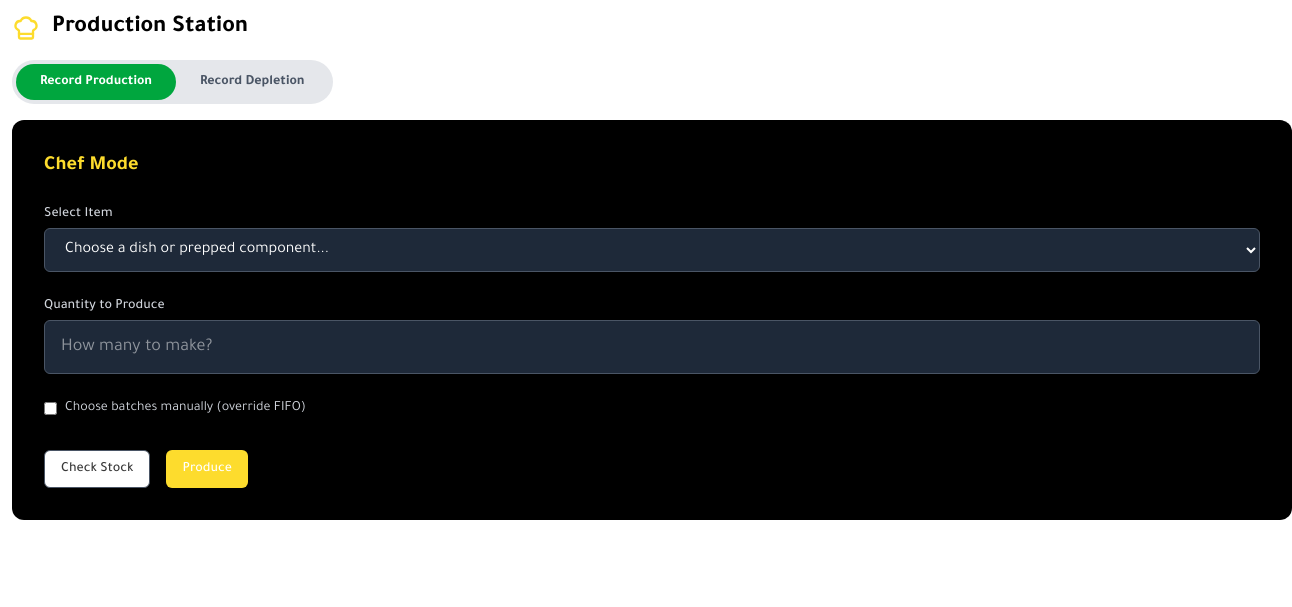
Test case: ProductionPage › shows a validation error when trying to produce without selecting an item
Click the button "Produce": [207, 469] box [166, 450, 248, 488]
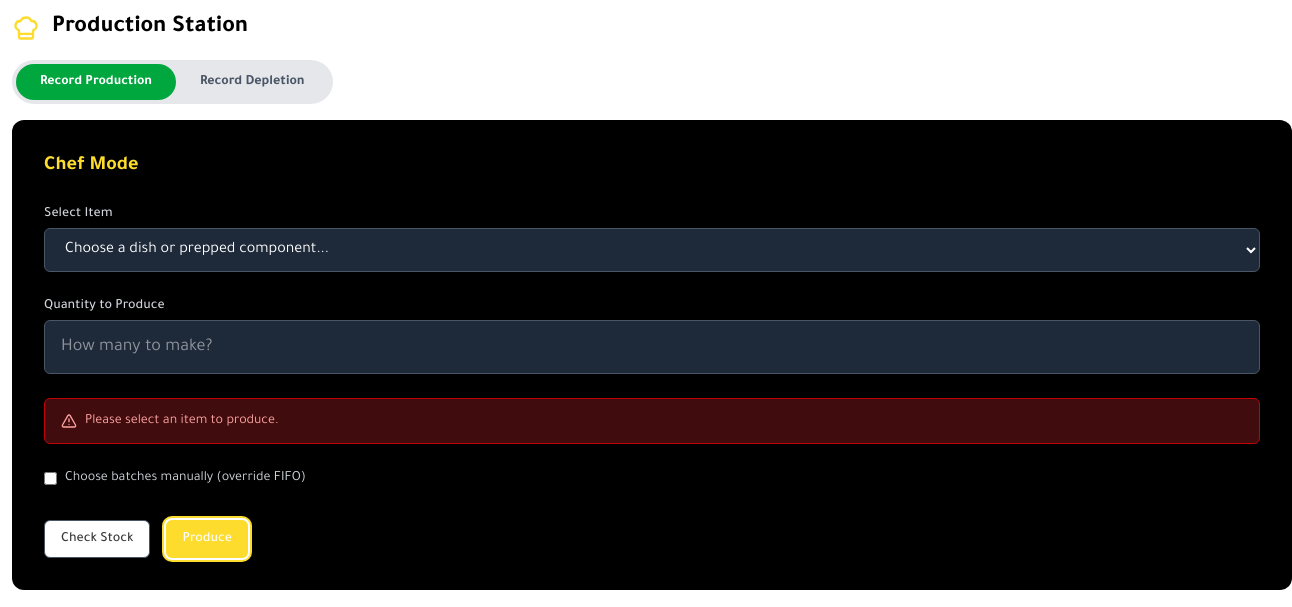
expect the text "Please select an item to produce." is shown: met, box [44, 398, 1260, 444]
